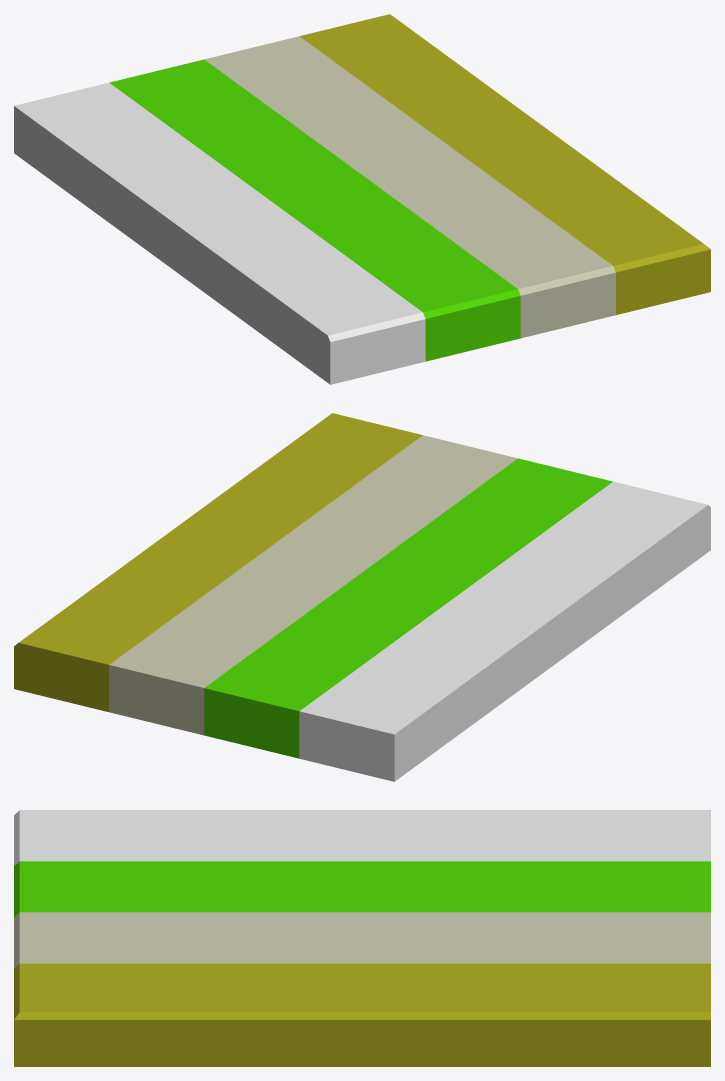
File: CuttingBoard.fbx
The picture shows the model from 3 angles, top to bottom: view 1: azimuth 30°, elevation 25°; view 2: azimuth 150°, elevation 25°; view 3: azimuth 270°, elevation 25°; orthographic projection. The views are drawn at different scales.
Parts seen in each view (by area): view 1: CuttingBoard; view 2: CuttingBoard; view 3: CuttingBoard.
Part boxes in pixels (x1=…): CuttingBoard: x1=14, y1=14, x2=710, y2=384; CuttingBoard: x1=14, y1=413, x2=710, y2=781; CuttingBoard: x1=14, y1=810, x2=710, y2=1066.
Bounding box in the file's own units: 46.44 × 5.53 × 66.91.
